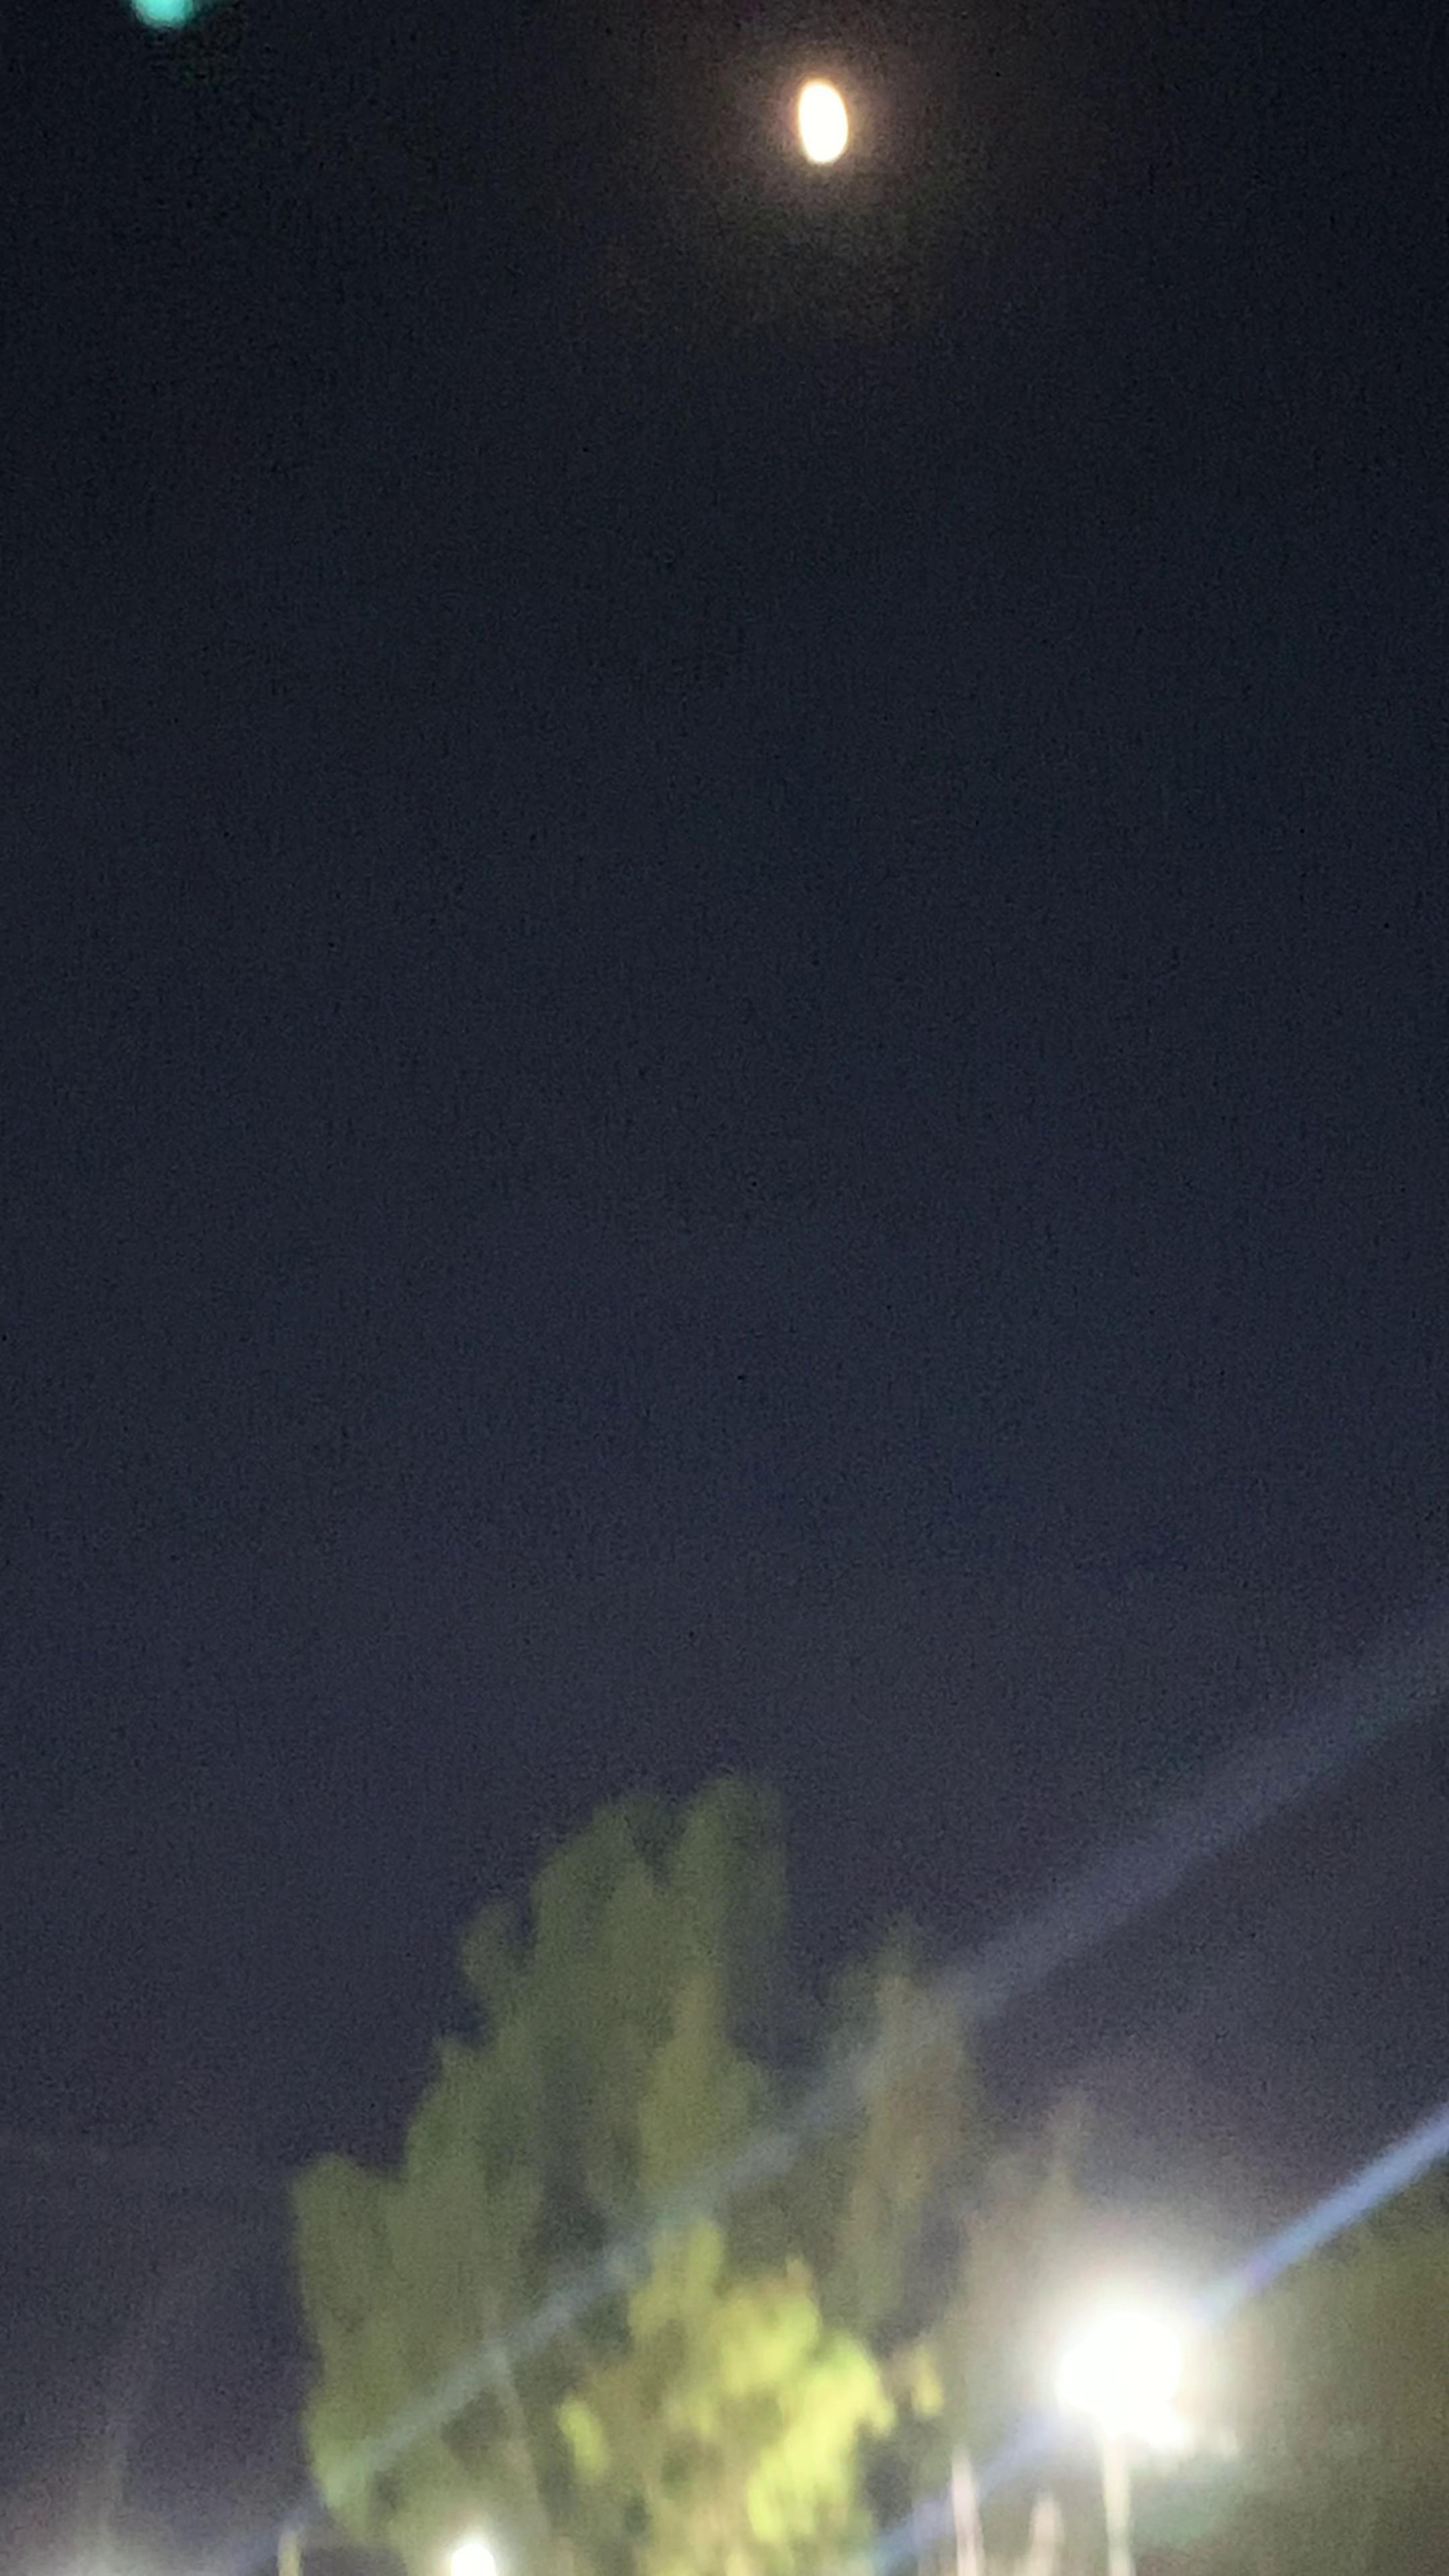moon: (748, 57, 895, 196)
